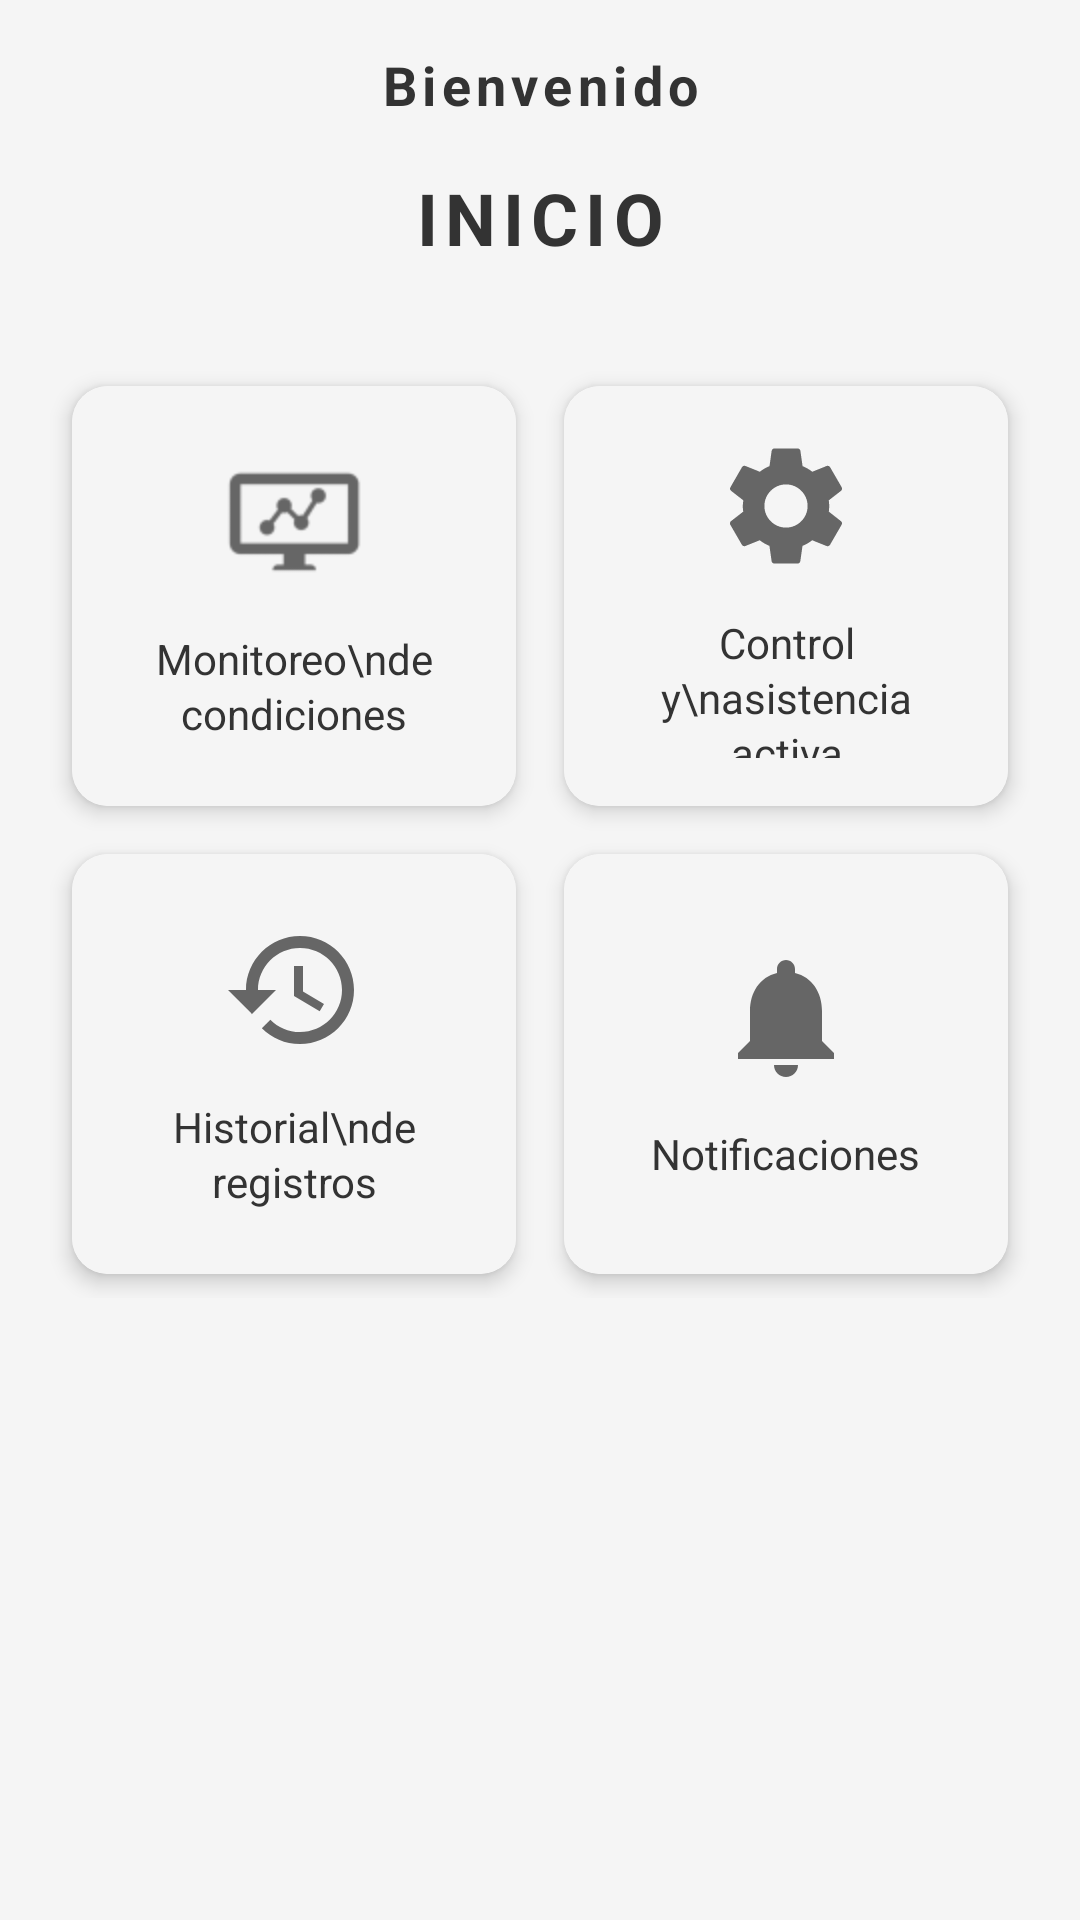

Screen size 1080*1920. Icon name, then its box in pixels as (x1, y1, x2, y2):
controle: (730, 448, 842, 564)
icmonitoreo: (229, 472, 360, 571)
